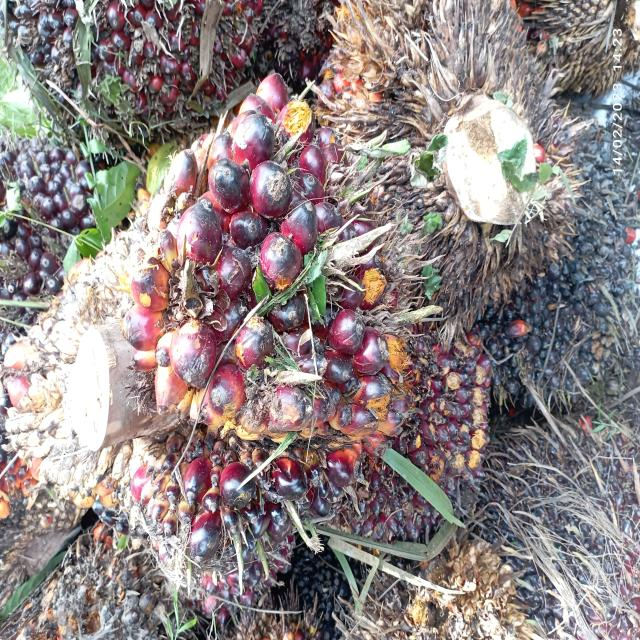fraksi 00: (503, 123, 632, 421), (482, 423, 638, 622)
fraksi 1: (0, 78, 421, 599)
